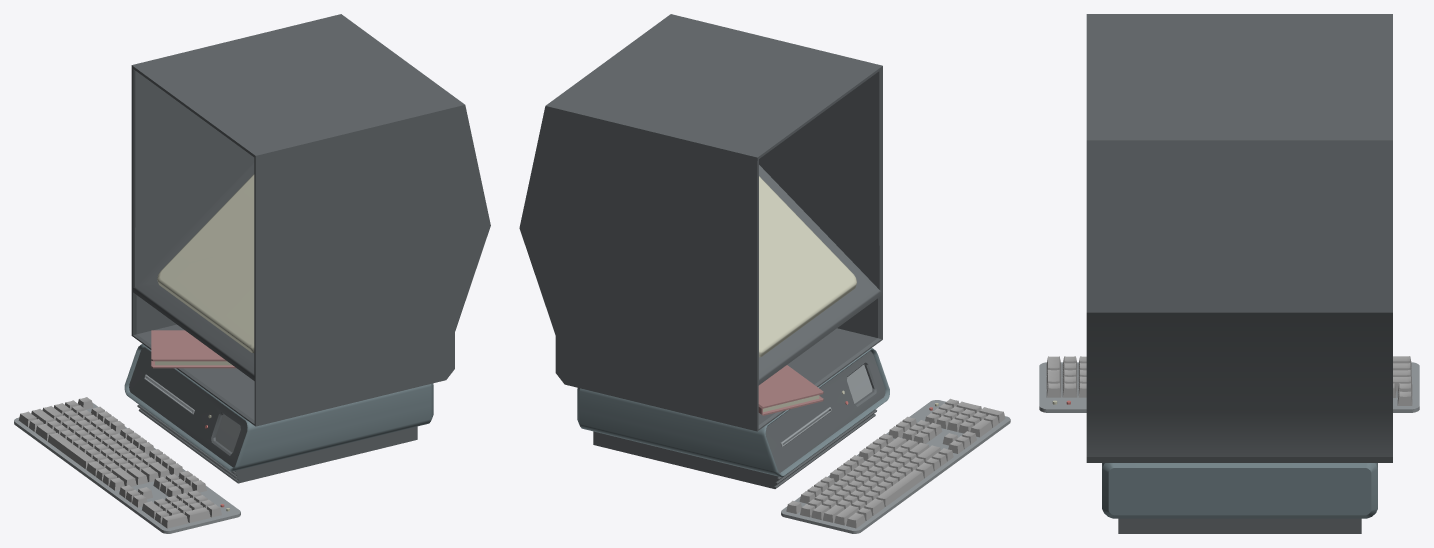
Rendered from Computer_Console_Setup.fbx.
3 renders of one model, left to right at view 1: azimuth 30°, elevation 25°; view 2: azimuth 150°, elevation 25°; view 3: azimuth 270°, elevation 25°, orthographic. The views are drawn at different scales.
Visible parts, largest first — view 1: pCylinder59, pCube169, pCube48; view 2: pCylinder59, pCube169, pCube48; view 3: pCylinder59, pCube169.
Part boxes in pixels (left/top/right/bottom): pCylinder59: left=124, top=14, right=490, bottom=483; pCube169: left=14, top=397, right=240, bottom=533; pCube48: left=151, top=330, right=236, bottom=368; pCylinder59: left=519, top=14, right=889, bottom=488; pCube169: left=781, top=398, right=1010, bottom=533; pCube48: left=758, top=365, right=823, bottom=415; pCylinder59: left=1086, top=14, right=1392, bottom=533; pCube169: left=1039, top=356, right=1419, bottom=412.
Size of the model in its own units: 1.56 by 1.47 by 1.21.
